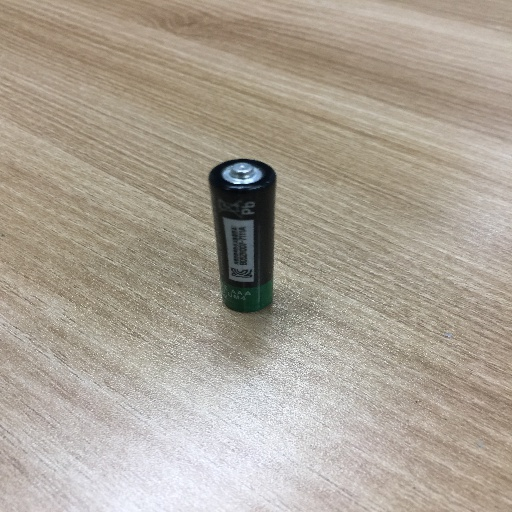Battery_0: (200, 147, 299, 334)
